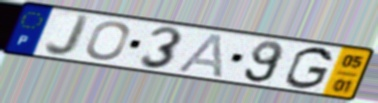3: (138, 25, 186, 71)
9: (241, 39, 286, 85)
A: (175, 32, 226, 80)
G: (282, 45, 336, 91)
J: (43, 13, 94, 59)
O: (84, 20, 132, 62)
